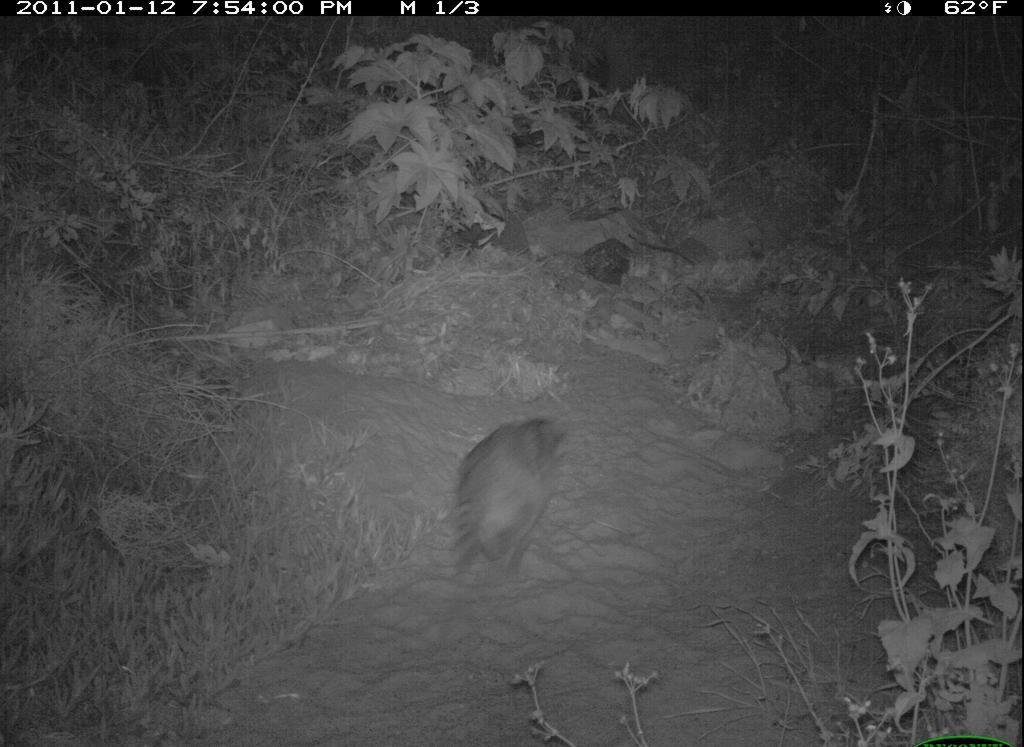raccoon: (450, 415, 573, 585)
